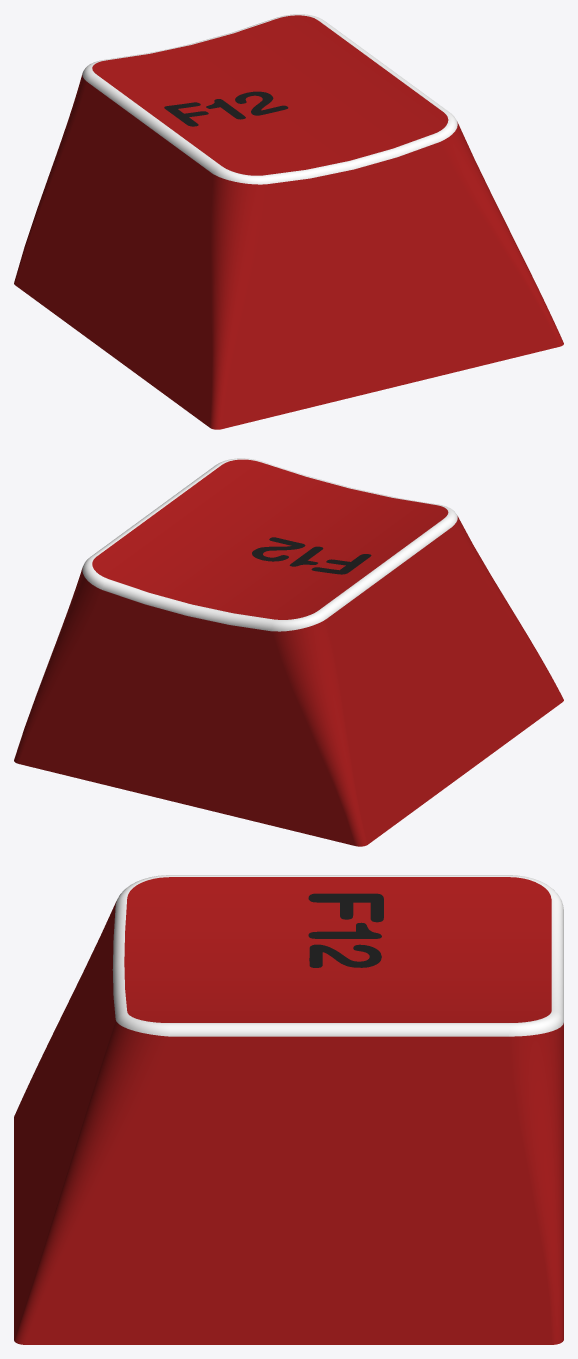
The picture shows the model from 3 angles, top to bottom: view 1: azimuth 30°, elevation 25°; view 2: azimuth 150°, elevation 25°; view 3: azimuth 270°, elevation 25°; orthographic projection. The views are drawn at different scales.
Visible parts, largest first — view 1: Body1; view 2: Body1; view 3: Body1.
Part boxes in pixels (left/top/right/bottom): Body1: left=14, top=14, right=563, bottom=429; Body1: left=14, top=458, right=563, bottom=846; Body1: left=14, top=875, right=563, bottom=1344.
Size of the model in its own units: 18 by 10.07 by 18.
